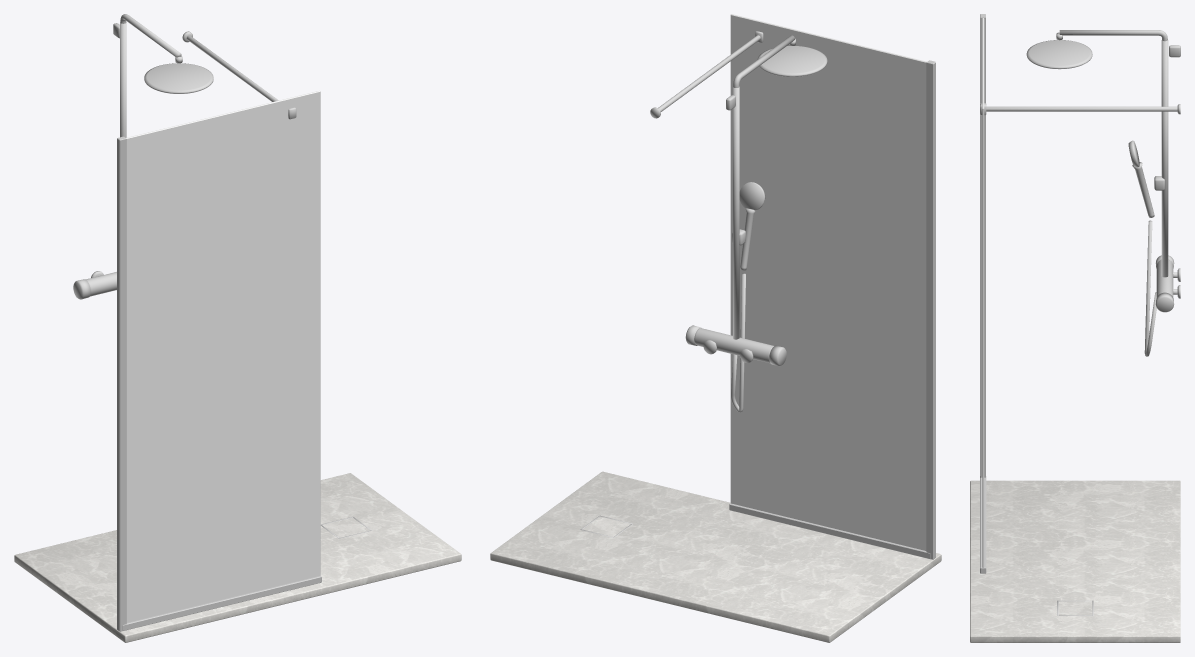
File: ducha_walk_in_80x140.glb
3 renders of one model, left to right at view 1: azimuth 30°, elevation 25°; view 2: azimuth 150°, elevation 25°; view 3: azimuth 270°, elevation 25°, orthographic. The views are drawn at different scales.
Parts seen in each view (by area): view 1: ducha_walk_in_80x140; view 2: ducha_walk_in_80x140; view 3: ducha_walk_in_80x140.
Boxes of the visible parts, x1,y1,x2,y2 form: ducha_walk_in_80x140: (14, 14, 461, 642); ducha_walk_in_80x140: (490, 14, 941, 642); ducha_walk_in_80x140: (970, 14, 1180, 642).
Bounding box in the file's own units: 1.4 × 2.11 × 0.8005.
3 materials, 1 textured.
